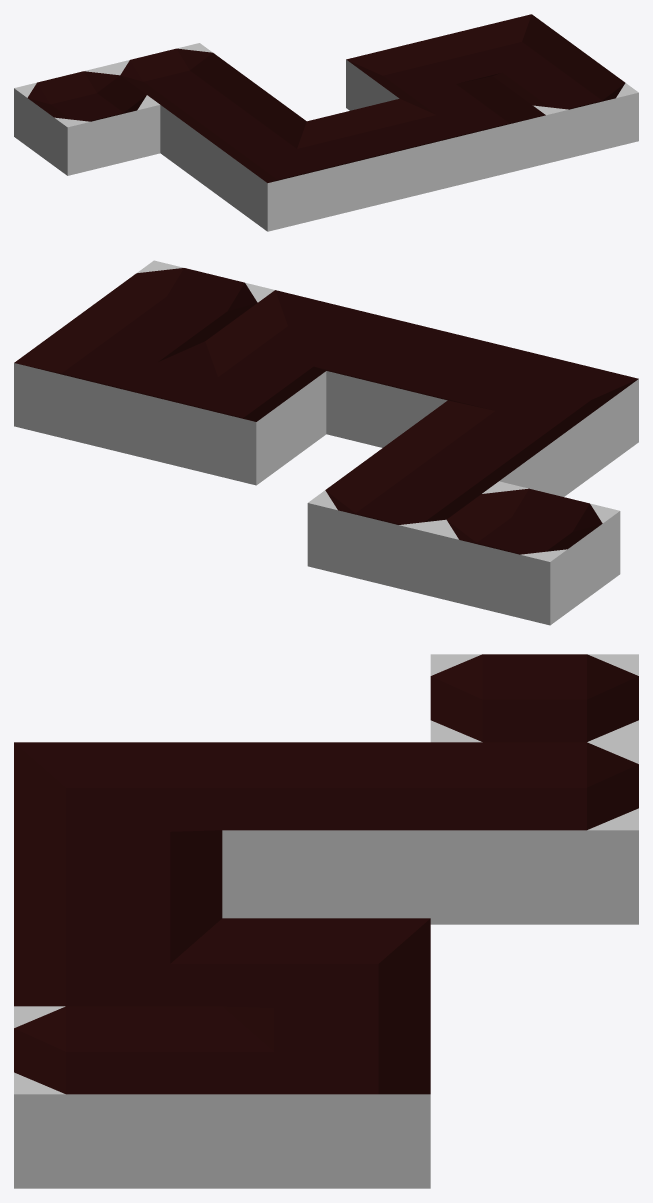
File: 53f_path.obj
3 views of the same model, one above another, from view 1: azimuth 30°, elevation 25°; view 2: azimuth 150°, elevation 25°; view 3: azimuth 270°, elevation 25° (orthographic). The views are drawn at different scales.
Visible parts, largest first — view 1: foil.hole.0.4_Cube.107, foil.corner.1.2_corner.535, foil.through.2.2_through.100, foil.corner.3.2_corner.536, foil.ending.4.2_ending.212, foil.through.1.3_through.099, foil.corner.3.3_corner.537, foil.corner.4.3_corner.538, foil.ending.1.4_ending.211; view 2: foil.hole.0.4_Cube.107, foil.corner.3.3_corner.537, foil.corner.4.3_corner.538, foil.ending.1.4_ending.211, foil.through.2.2_through.100, foil.corner.1.2_corner.535, foil.through.1.3_through.099, foil.corner.3.2_corner.536, foil.ending.4.2_ending.212; view 3: foil.ending.1.4_ending.211, foil.ending.4.2_ending.212, foil.through.1.3_through.099, foil.corner.4.3_corner.538, foil.corner.3.3_corner.537, foil.corner.1.2_corner.535, foil.hole.0.4_Cube.107, foil.through.2.2_through.100, foil.corner.3.2_corner.536.
Boxes of the visible parts, <box> form: foil.hole.0.4_Cube.107: <box>14,65,160,175</box>; foil.corner.1.2_corner.535: <box>214,121,360,231</box>; foil.through.2.2_through.100: <box>307,99,453,208</box>; foil.corner.3.2_corner.536: <box>400,76,545,186</box>; foil.ending.4.2_ending.212: <box>493,53,638,163</box>; foil.through.1.3_through.099: <box>160,82,306,192</box>; foil.corner.3.3_corner.537: <box>346,37,491,110</box>; foil.corner.4.3_corner.538: <box>439,14,584,82</box>; foil.ending.1.4_ending.211: <box>107,43,252,111</box>; foil.hole.0.4_Cube.107: <box>429,481,620,625</box>; foil.corner.3.3_corner.537: <box>135,341,326,485</box>; foil.corner.4.3_corner.538: <box>14,312,204,455</box>; foil.ending.1.4_ending.211: <box>307,452,498,595</box>; foil.through.2.2_through.100: <box>326,319,517,447</box>; foil.corner.1.2_corner.535: <box>448,349,638,492</box>; foil.through.1.3_through.099: <box>378,400,568,496</box>; foil.corner.3.2_corner.536: <box>205,290,395,433</box>; foil.ending.4.2_ending.212: <box>84,260,274,349</box>; foil.ending.1.4_ending.211: <box>430,742,638,924</box>; foil.ending.4.2_ending.212: <box>14,1006,222,1188</box>; foil.through.1.3_through.099: <box>222,742,430,918</box>; foil.corner.4.3_corner.538: <box>222,1006,430,1188</box>; foil.corner.3.3_corner.537: <box>222,918,430,1029</box>; foil.corner.1.2_corner.535: <box>14,742,222,853</box>; foil.hole.0.4_Cube.107: <box>430,654,638,742</box>; foil.through.2.2_through.100: <box>14,830,222,941</box>; foil.corner.3.2_corner.536: <box>14,918,222,1006</box>.
Size of the model in its own units: 10 by 1 by 6.
